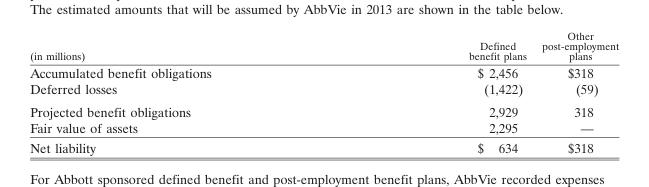table: (29, 28, 618, 155)
table column: (29, 28, 339, 155), (339, 28, 533, 155), (533, 28, 618, 155)
table column header: (29, 28, 618, 63)
table row: (29, 28, 618, 63), (29, 99, 618, 119), (29, 80, 618, 99), (29, 119, 618, 137), (29, 137, 618, 155), (29, 63, 618, 80)
